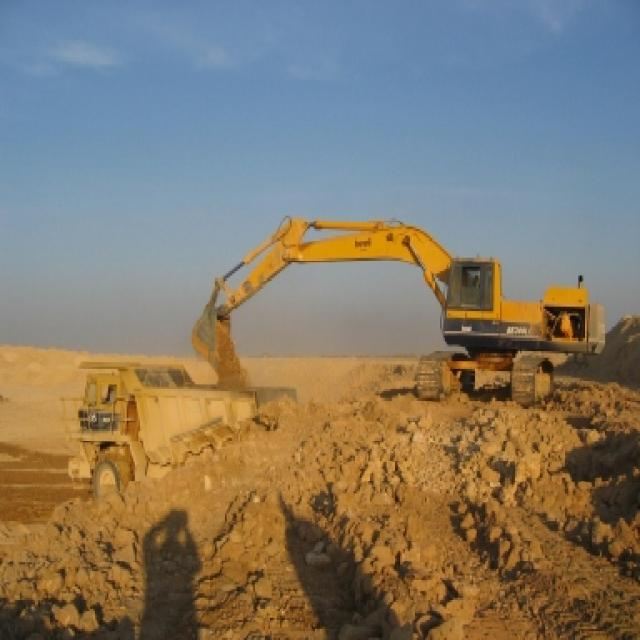dump_truck: (73, 348, 307, 511)
excavator: (179, 181, 613, 408)
